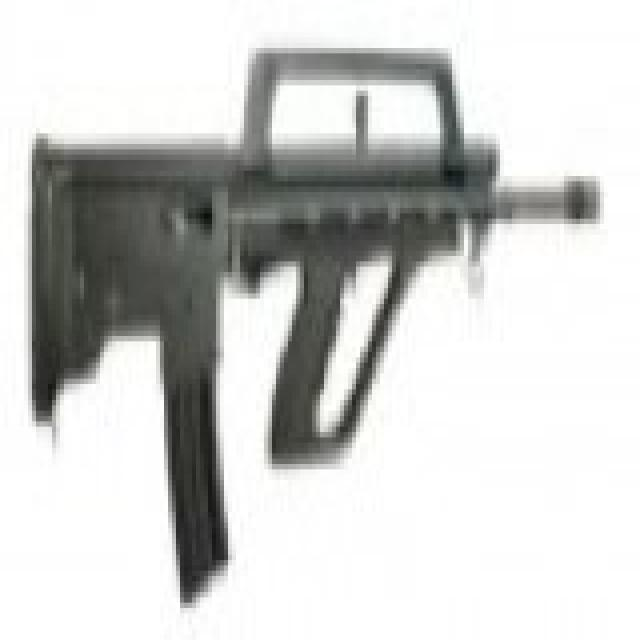Gun: (24, 25, 606, 592)
